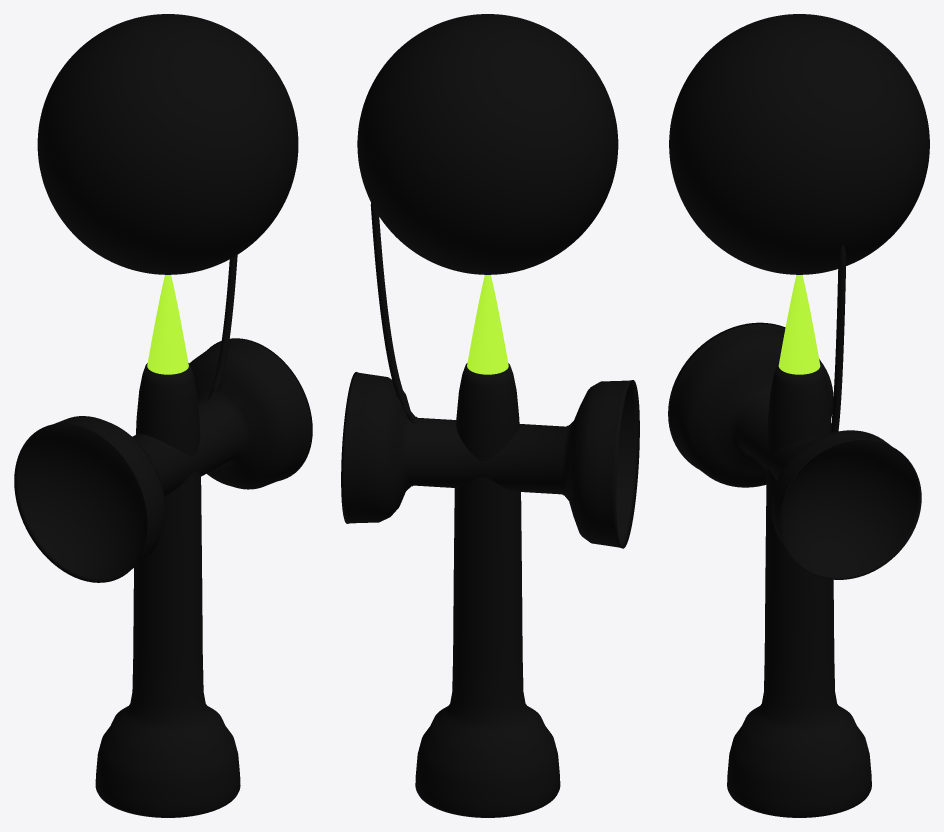
3 renders of one model, left to right at view 1: azimuth 30°, elevation 25°; view 2: azimuth 150°, elevation 25°; view 3: azimuth 270°, elevation 25°, orthographic.
Visible parts, largest first — view 1: ball, cross, ken, spike, string; view 2: ball, ken, cross, spike, string; view 3: ball, cross, ken, spike, string.
Boxes of the visible parts, left/top/right/bottom form: ball: left=37, top=14, right=298, bottom=274; cross: left=14, top=338, right=312, bottom=582; ken: left=95, top=363, right=240, bottom=817; spike: left=147, top=275, right=188, bottom=374; string: left=207, top=255, right=237, bottom=401; ball: left=357, top=14, right=618, bottom=274; ken: left=415, top=363, right=560, bottom=817; cross: left=341, top=372, right=639, bottom=548; spike: left=467, top=275, right=508, bottom=374; string: left=370, top=203, right=418, bottom=424; ball: left=669, top=14, right=929, bottom=274; cross: left=668, top=322, right=921, bottom=579; ken: left=727, top=363, right=871, bottom=817; spike: left=778, top=275, right=820, bottom=374; string: left=830, top=245, right=846, bottom=433.
Size of the model in its own units: 0.8628 by 2.27 by 0.7083.
